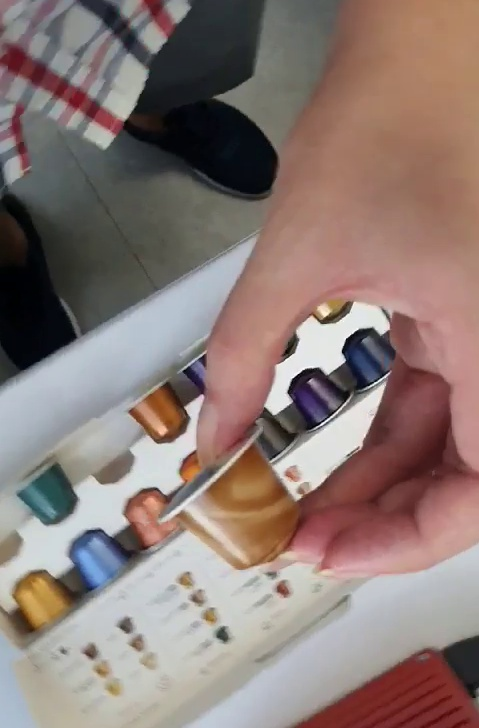capsule_12: (164, 424, 303, 569)
